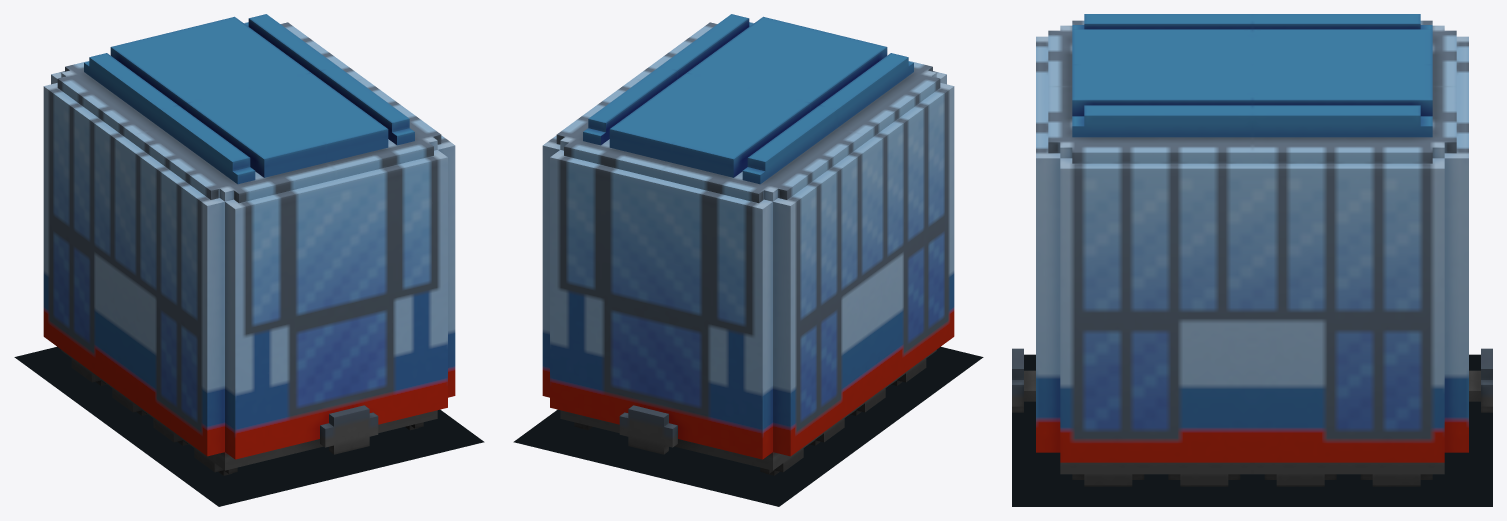
Rendered from metro_body.FBX.
3 views of the same model, side by side, from view 1: azimuth 30°, elevation 25°; view 2: azimuth 150°, elevation 25°; view 3: azimuth 270°, elevation 25° (orthographic). The views are drawn at different scales.
Visible parts, largest first — view 1: metro_body, metro_soft_shadow; view 2: metro_body, metro_soft_shadow; view 3: metro_body, metro_soft_shadow.
Boxes of the visible parts, <box> form: metro_body: <box>43,14,455,475</box>; metro_soft_shadow: <box>14,346,484,506</box>; metro_body: <box>542,14,954,475</box>; metro_soft_shadow: <box>513,346,983,506</box>; metro_body: <box>1012,14,1492,486</box>; metro_soft_shadow: <box>1012,354,1492,506</box>.
Bounding box in the file's own units: 750 × 850 × 1000.
